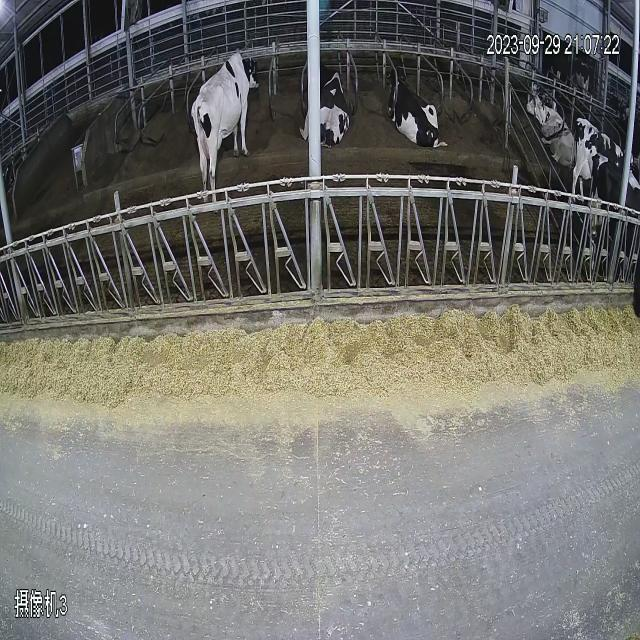lying down: (386, 54, 446, 171), (300, 50, 360, 162), (528, 73, 572, 186)
standing: (185, 36, 276, 210), (573, 113, 640, 294)
